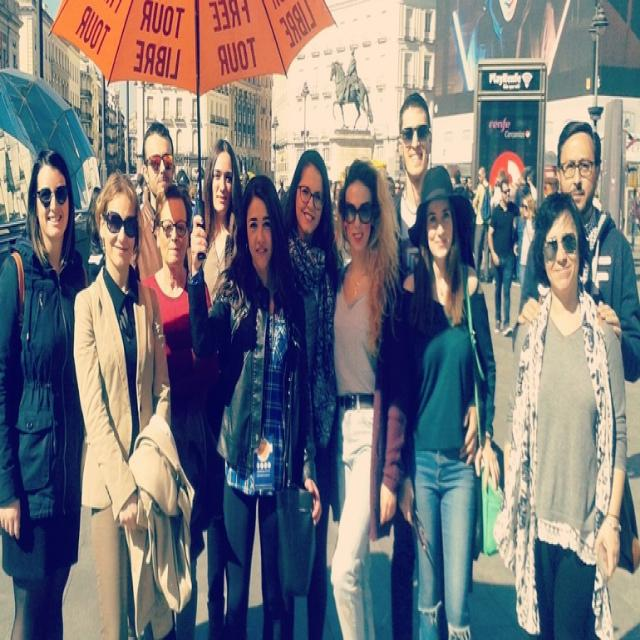body: (492, 189, 639, 638), (186, 172, 324, 639), (70, 167, 195, 638), (388, 162, 509, 638), (0, 144, 94, 638), (329, 154, 403, 640), (511, 119, 640, 387), (138, 182, 213, 638), (276, 145, 342, 640), (381, 89, 436, 638), (200, 135, 241, 640), (452, 0, 573, 82), (136, 120, 176, 284), (486, 175, 520, 335), (470, 166, 493, 285), (84, 186, 106, 291), (174, 164, 204, 234), (518, 192, 537, 299), (522, 166, 541, 265), (326, 175, 346, 261), (337, 41, 363, 107), (628, 186, 640, 254), (452, 168, 467, 198), (134, 172, 145, 212), (397, 183, 405, 235), (465, 172, 478, 201), (277, 178, 286, 200), (392, 178, 402, 197), (240, 174, 249, 187)
